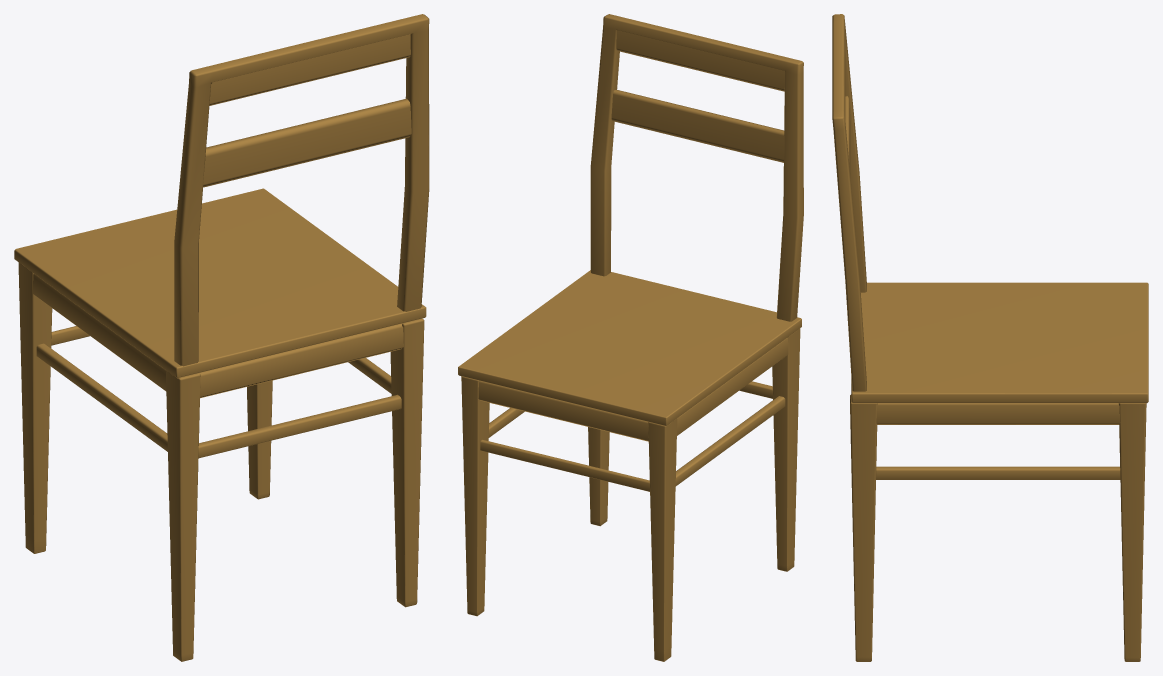
Rendered from Chair.fbx.
3 renders of one model, left to right at view 1: azimuth 30°, elevation 25°; view 2: azimuth 150°, elevation 25°; view 3: azimuth 270°, elevation 25°, orthographic. The views are drawn at different scales.
Parts seen in each view (by area): view 1: Cube.1553; view 2: Cube.1553; view 3: Cube.1553.
Boxes of the visible parts, x1=… form: Cube.1553: x1=14, y1=14, x2=429, y2=661; Cube.1553: x1=458, y1=14, x2=803, y2=661; Cube.1553: x1=832, y1=14, x2=1148, y2=661.
Size of the model in its own units: 47.53 by 108 by 56.93.
